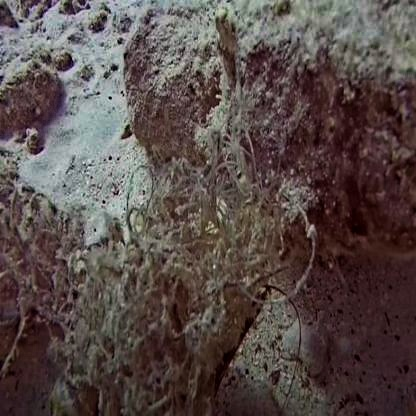net: (20, 156, 286, 402)
